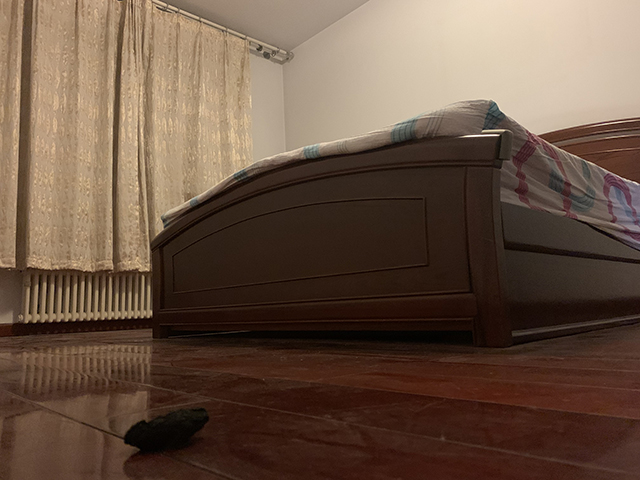bed: (148, 96, 640, 350)
curtain: (1, 1, 152, 273)
feces: (124, 405, 210, 452)
